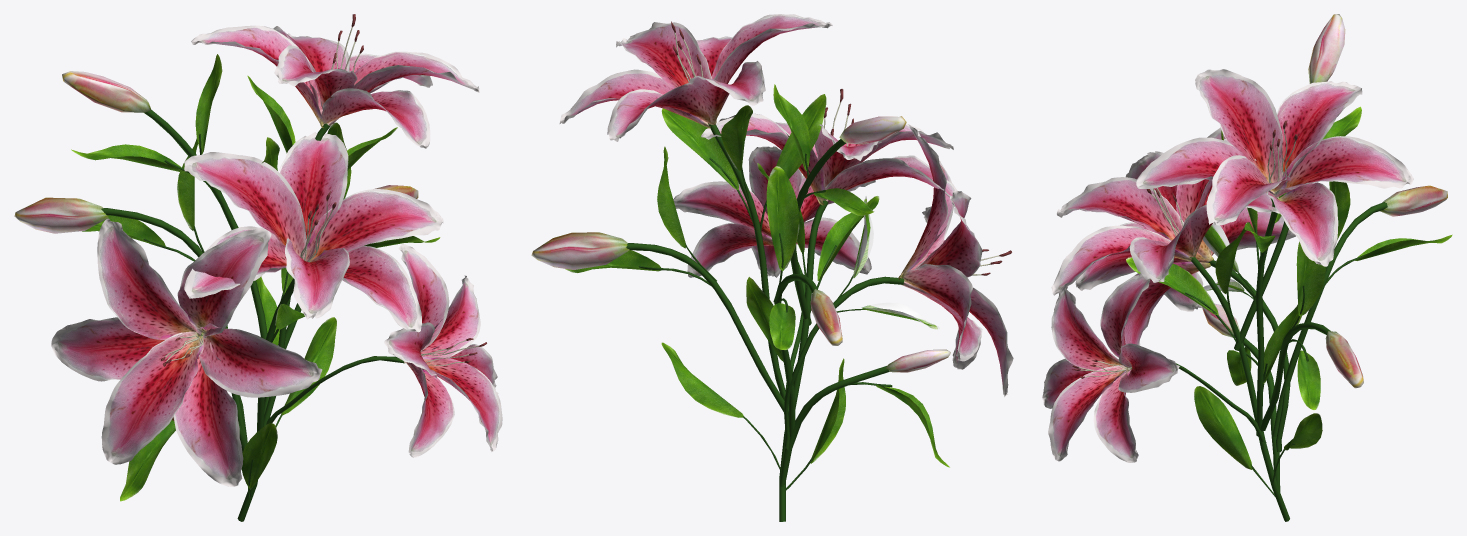
Rendered from lilies1.glb.
3 views of the same model, side by side, from view 1: azimuth 30°, elevation 25°; view 2: azimuth 150°, elevation 25°; view 3: azimuth 270°, elevation 25° (orthographic). The views are drawn at different scales.
Parts seen in each view (by area): view 1: Plane.066; view 2: Plane.066; view 3: Plane.066.
Boxes of the visible parts, bbox=[...] form: Plane.066: bbox=[14, 14, 502, 521]; Plane.066: bbox=[531, 14, 1013, 521]; Plane.066: bbox=[1042, 14, 1452, 521].
Size of the model in its own units: 5013 by 5745 by 4708.
6 materials, 3 textured.
